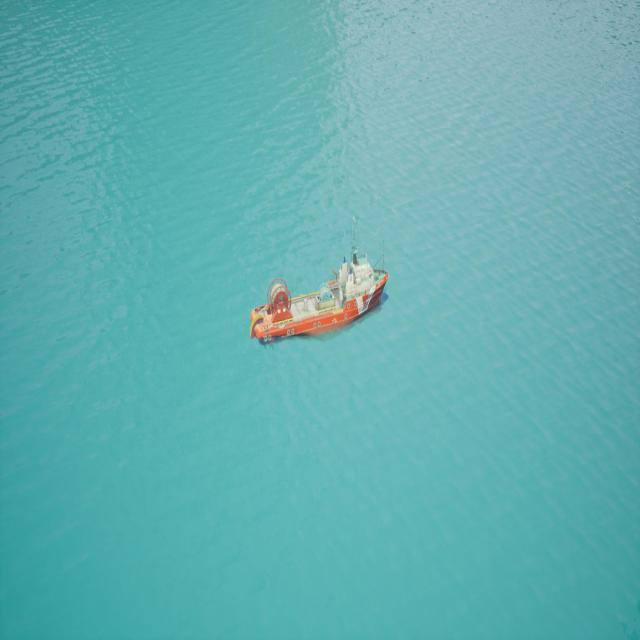tug boat: (239, 217, 400, 370)
